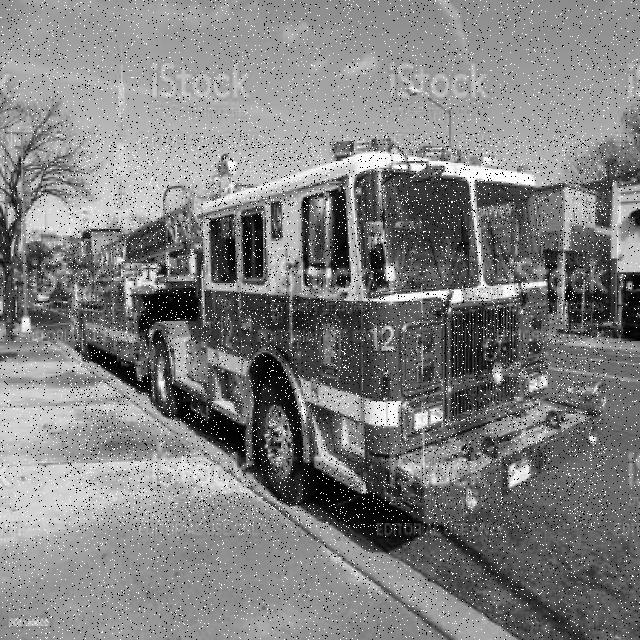Fire Truck: (69, 136, 607, 528)
